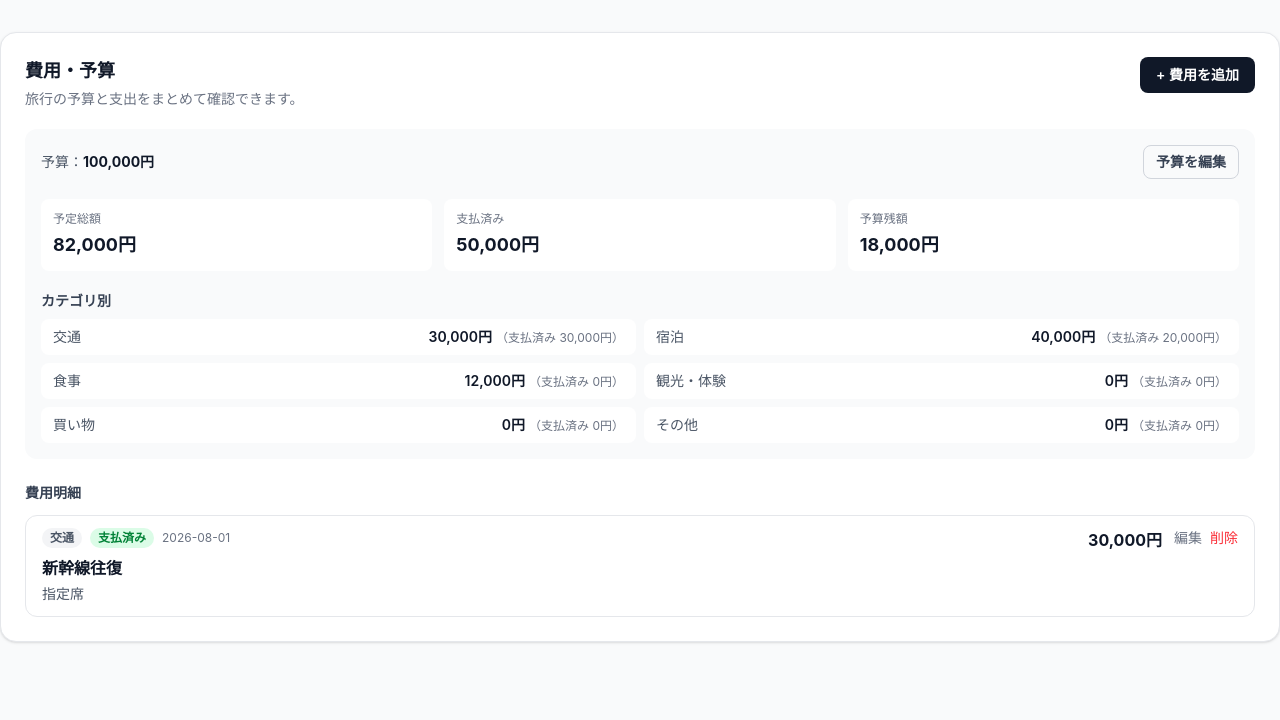
Test case: ExpenseList › 予算の更新に失敗した場合はエラーを表示する
Expected: the heading "新幹線往復" is shown, x1=42 y1=558 x2=122 y2=578
Click the button "予算を編集". click: (1191, 162)
box: x1=1143 y1=145 x2=1239 y2=179
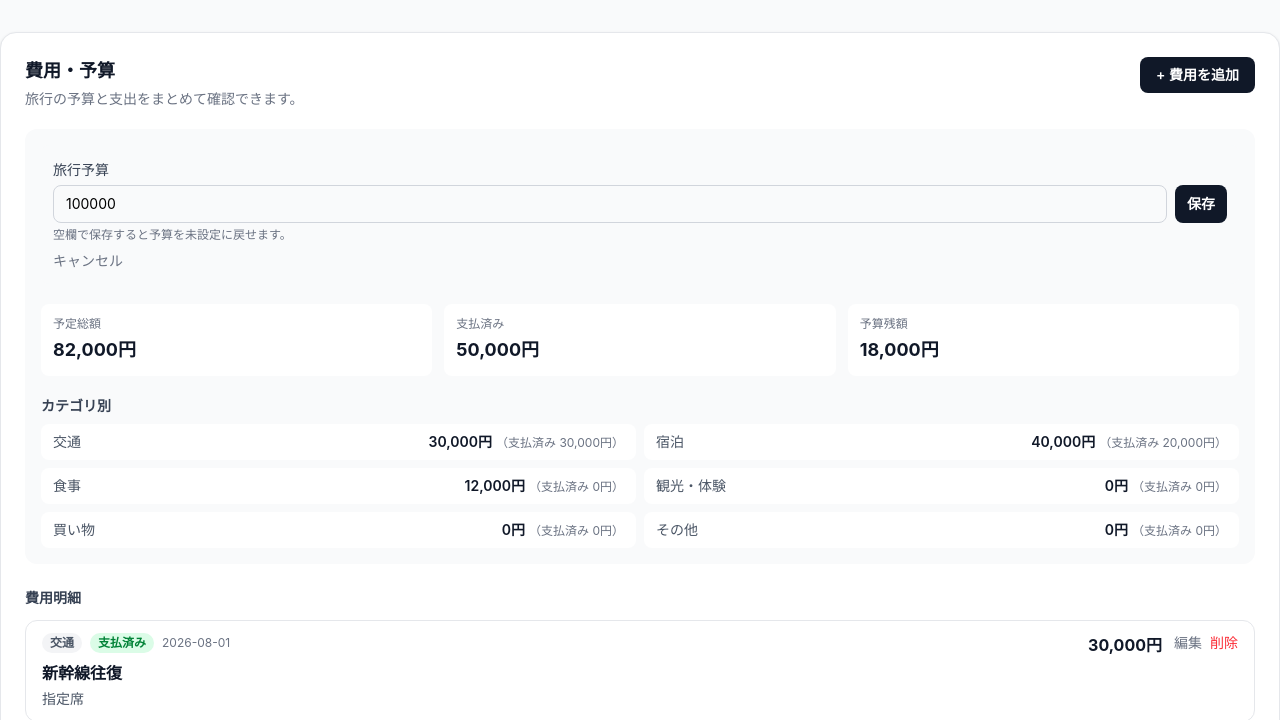
Click the button "保存". click: (1201, 204)
box: x1=1175 y1=185 x2=1227 y2=223
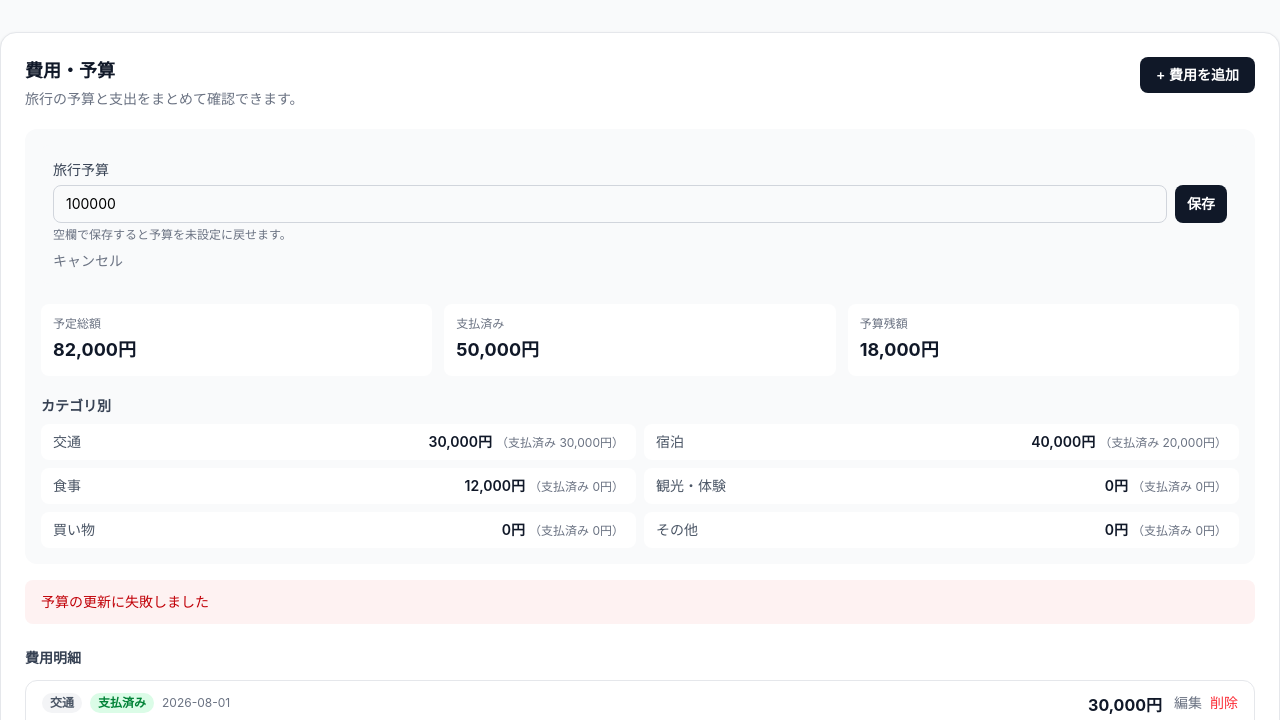
Expected: the message reads "予算の更新に失敗しました", x1=41 y1=593 x2=209 y2=610
